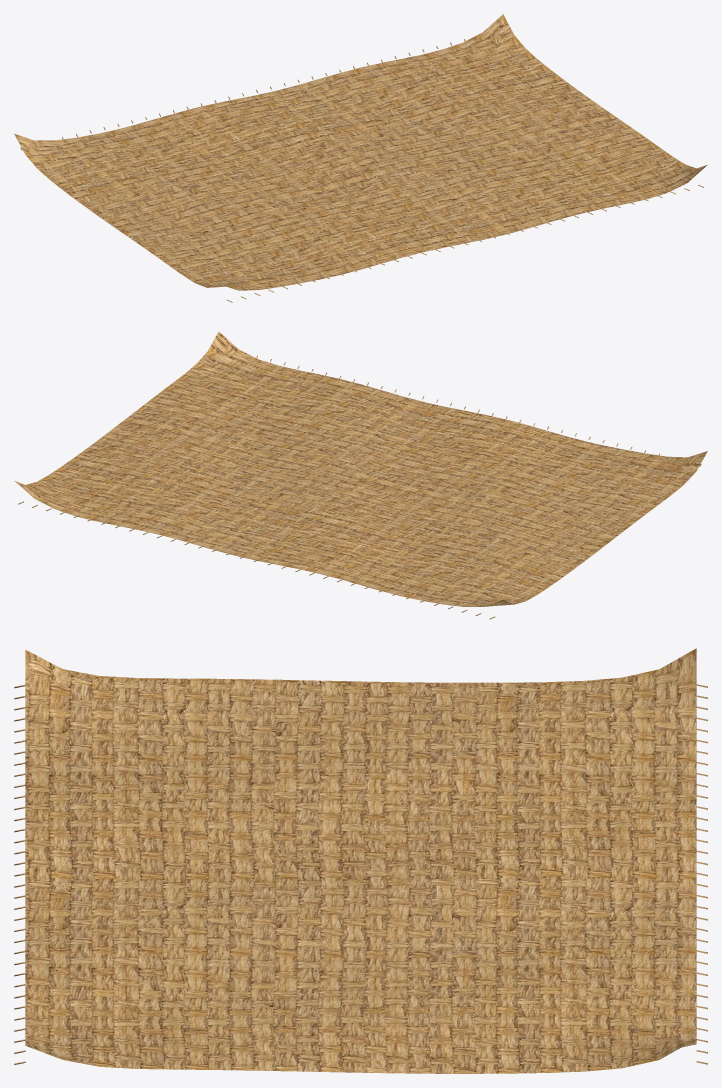
Rendered from prop_pati.glb.
3 renders of one model, top to bottom at view 1: azimuth 30°, elevation 25°; view 2: azimuth 150°, elevation 25°; view 3: azimuth 270°, elevation 25°, orthographic. The views are drawn at different scales.
Visible parts, largest first — view 1: prop_pati; view 2: prop_pati; view 3: prop_pati.
Part boxes in pixels (x1,y1,x2,y2): prop_pati: [14, 14, 707, 302]; prop_pati: [15, 331, 707, 619]; prop_pati: [14, 648, 707, 1073].
Bounding box in the file's own units: 1.2 × 0.05 × 0.9.
1 material, 1 textured.
